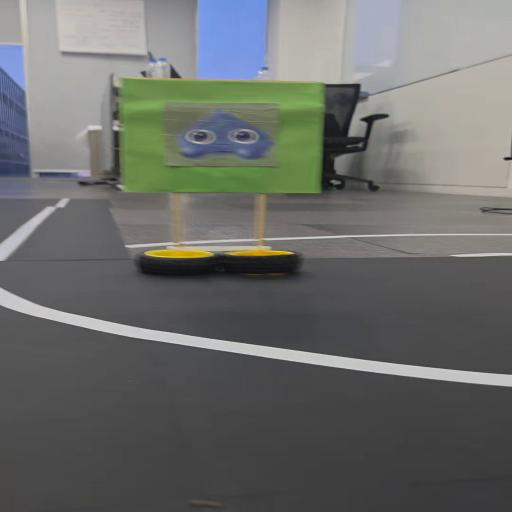Sign_B: (114, 76, 322, 280)
